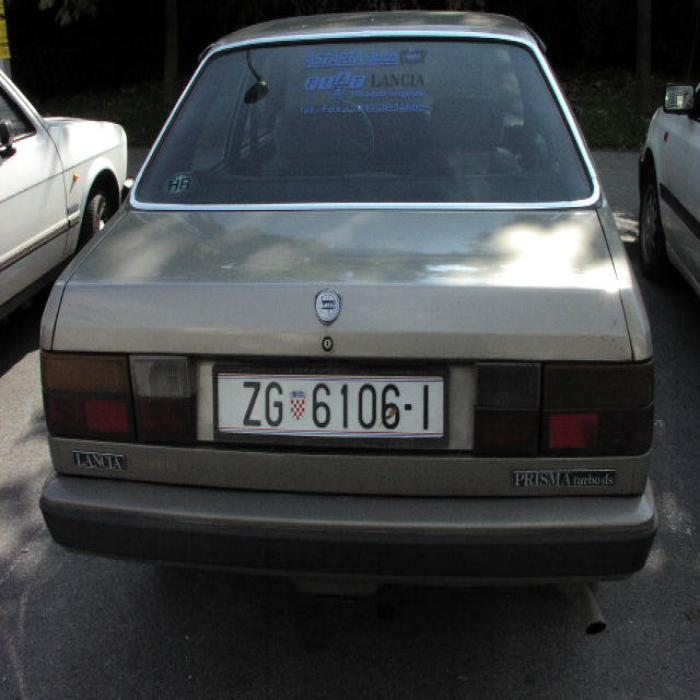number_plate: (218, 374, 440, 434)
